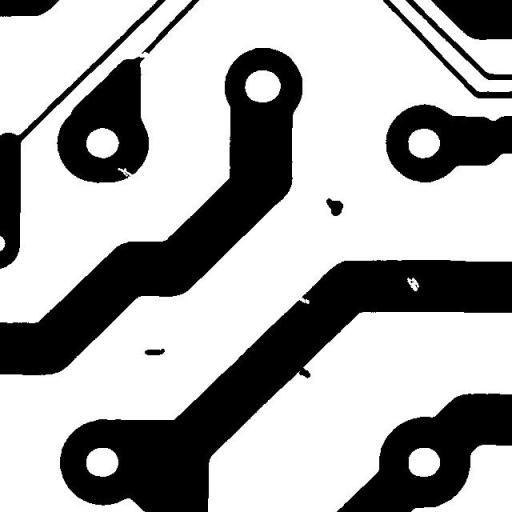copper: (318, 190, 350, 224), (137, 341, 172, 362)
mousebite: (110, 160, 140, 187), (290, 290, 317, 311)
open: (126, 44, 160, 66)
pin-hole: (400, 270, 426, 298)
spur: (291, 360, 318, 386)
